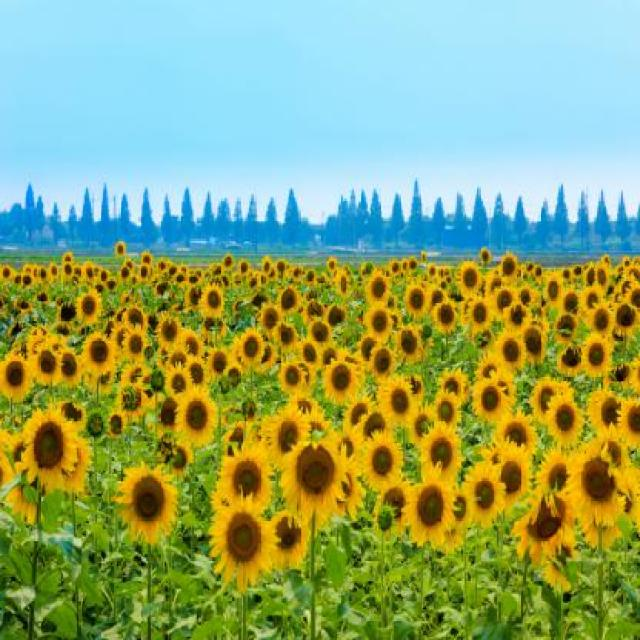sunflower: (275, 427, 354, 527), (206, 493, 277, 592), (392, 467, 466, 551), (570, 439, 628, 539), (114, 459, 178, 546), (14, 408, 81, 483), (419, 413, 466, 487), (463, 452, 509, 526), (360, 427, 406, 485), (176, 383, 218, 445), (376, 371, 418, 427), (493, 328, 532, 386), (544, 386, 582, 445), (469, 372, 508, 428), (320, 350, 358, 407), (0, 349, 40, 402), (578, 326, 612, 382), (79, 327, 113, 378), (361, 304, 397, 348), (276, 356, 310, 401), (75, 286, 108, 331), (237, 324, 268, 371), (120, 321, 152, 365), (364, 268, 394, 304), (433, 298, 462, 334), (278, 284, 304, 321)
